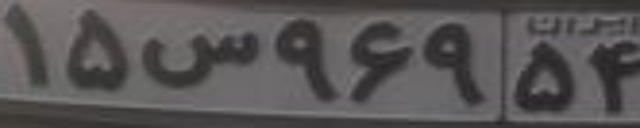1: (2, 3, 50, 87)
4: (584, 39, 639, 111)
5: (60, 8, 125, 89), (506, 41, 577, 111)
6: (343, 21, 412, 101)
9: (423, 21, 486, 104), (271, 19, 335, 100)
sin: (141, 29, 260, 88)
